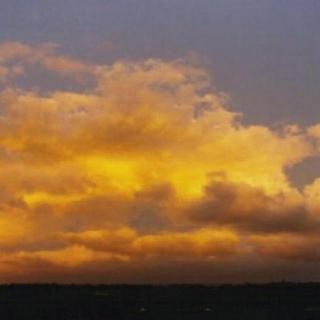Altostratus: (0, 15, 320, 287)
